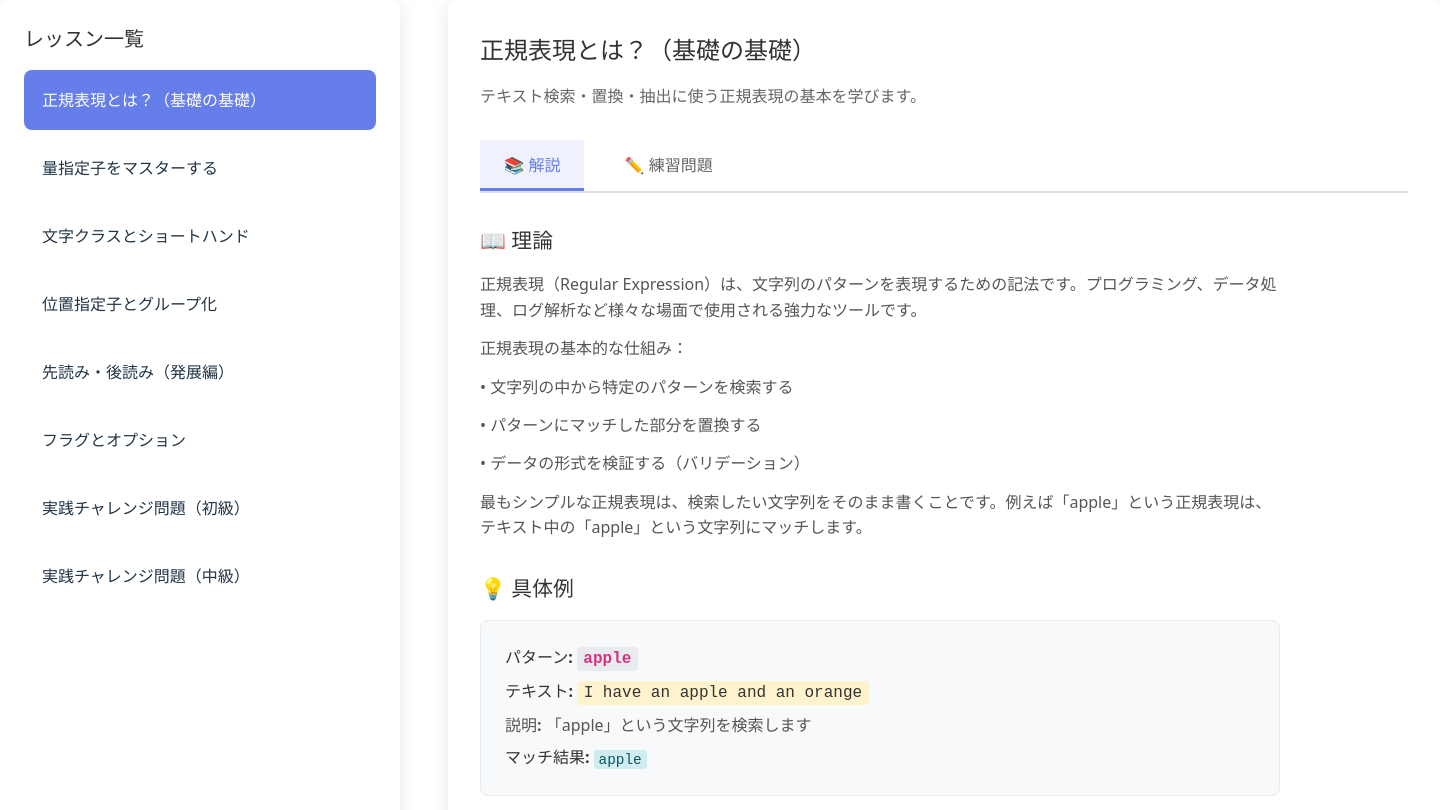
Test: LearningMode › 練習問題機能 › 正規表現入力フィールドが表示される
Click the button "✏️ 練習問題" at (669, 166), box [600,140,737,191]
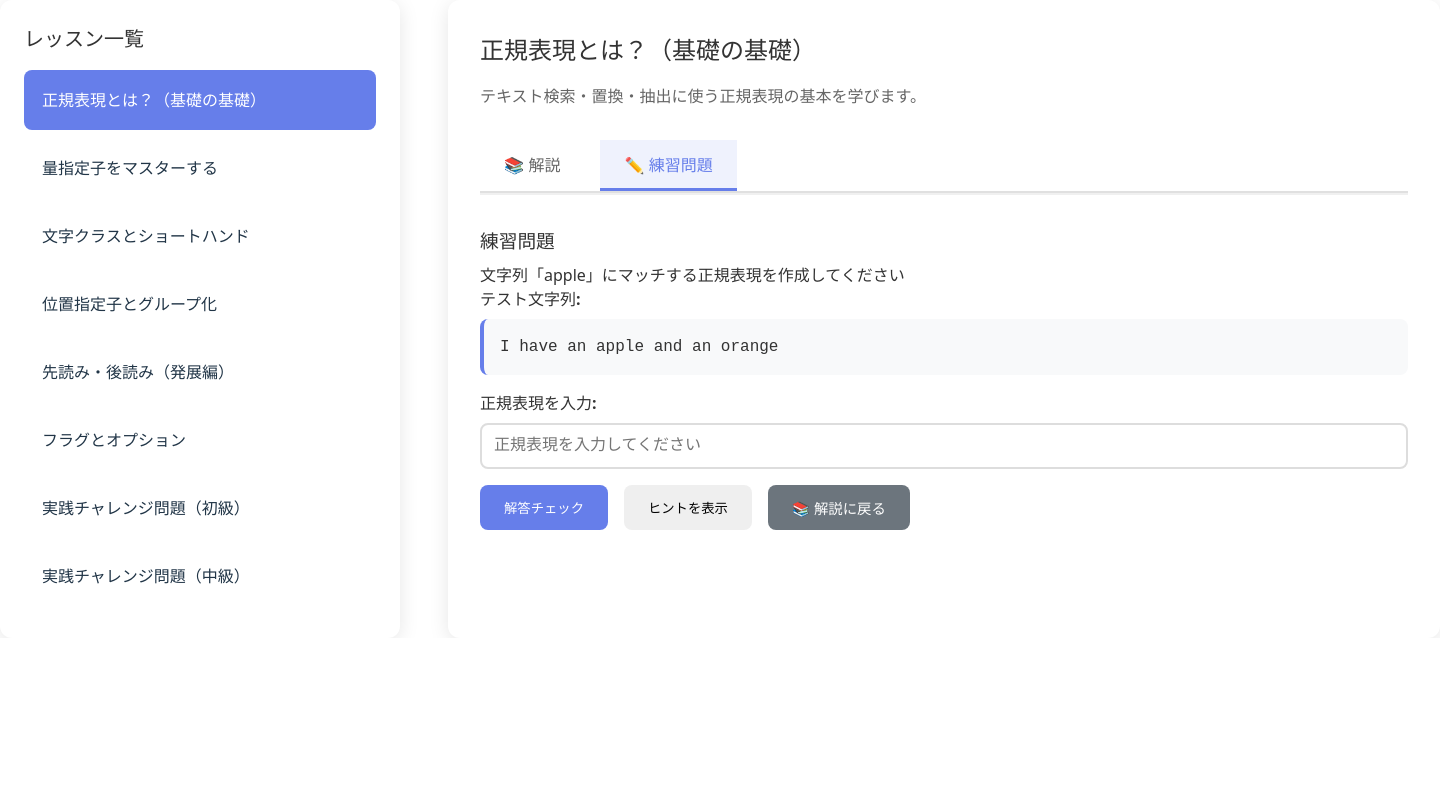
Result: the field with placeholder "正規表現を入力してください" is shown at [480,423,1408,469]
